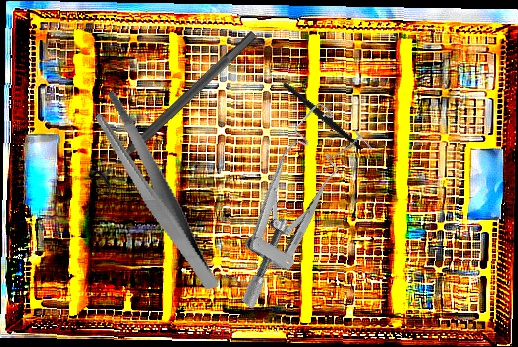Chopper: (263, 50, 365, 174)
Dressing Forceps: (90, 77, 220, 306)
Fixation Ring: (85, 22, 267, 198)
Speculum: (186, 99, 387, 311)
